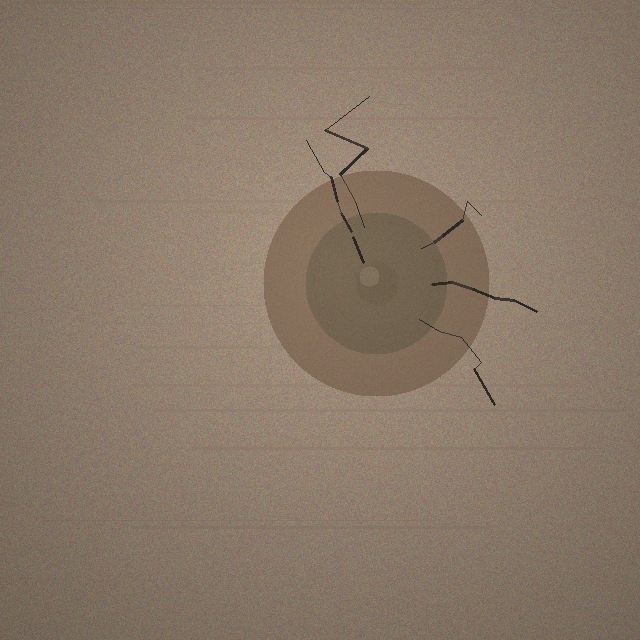crack: (263, 170, 489, 396)
